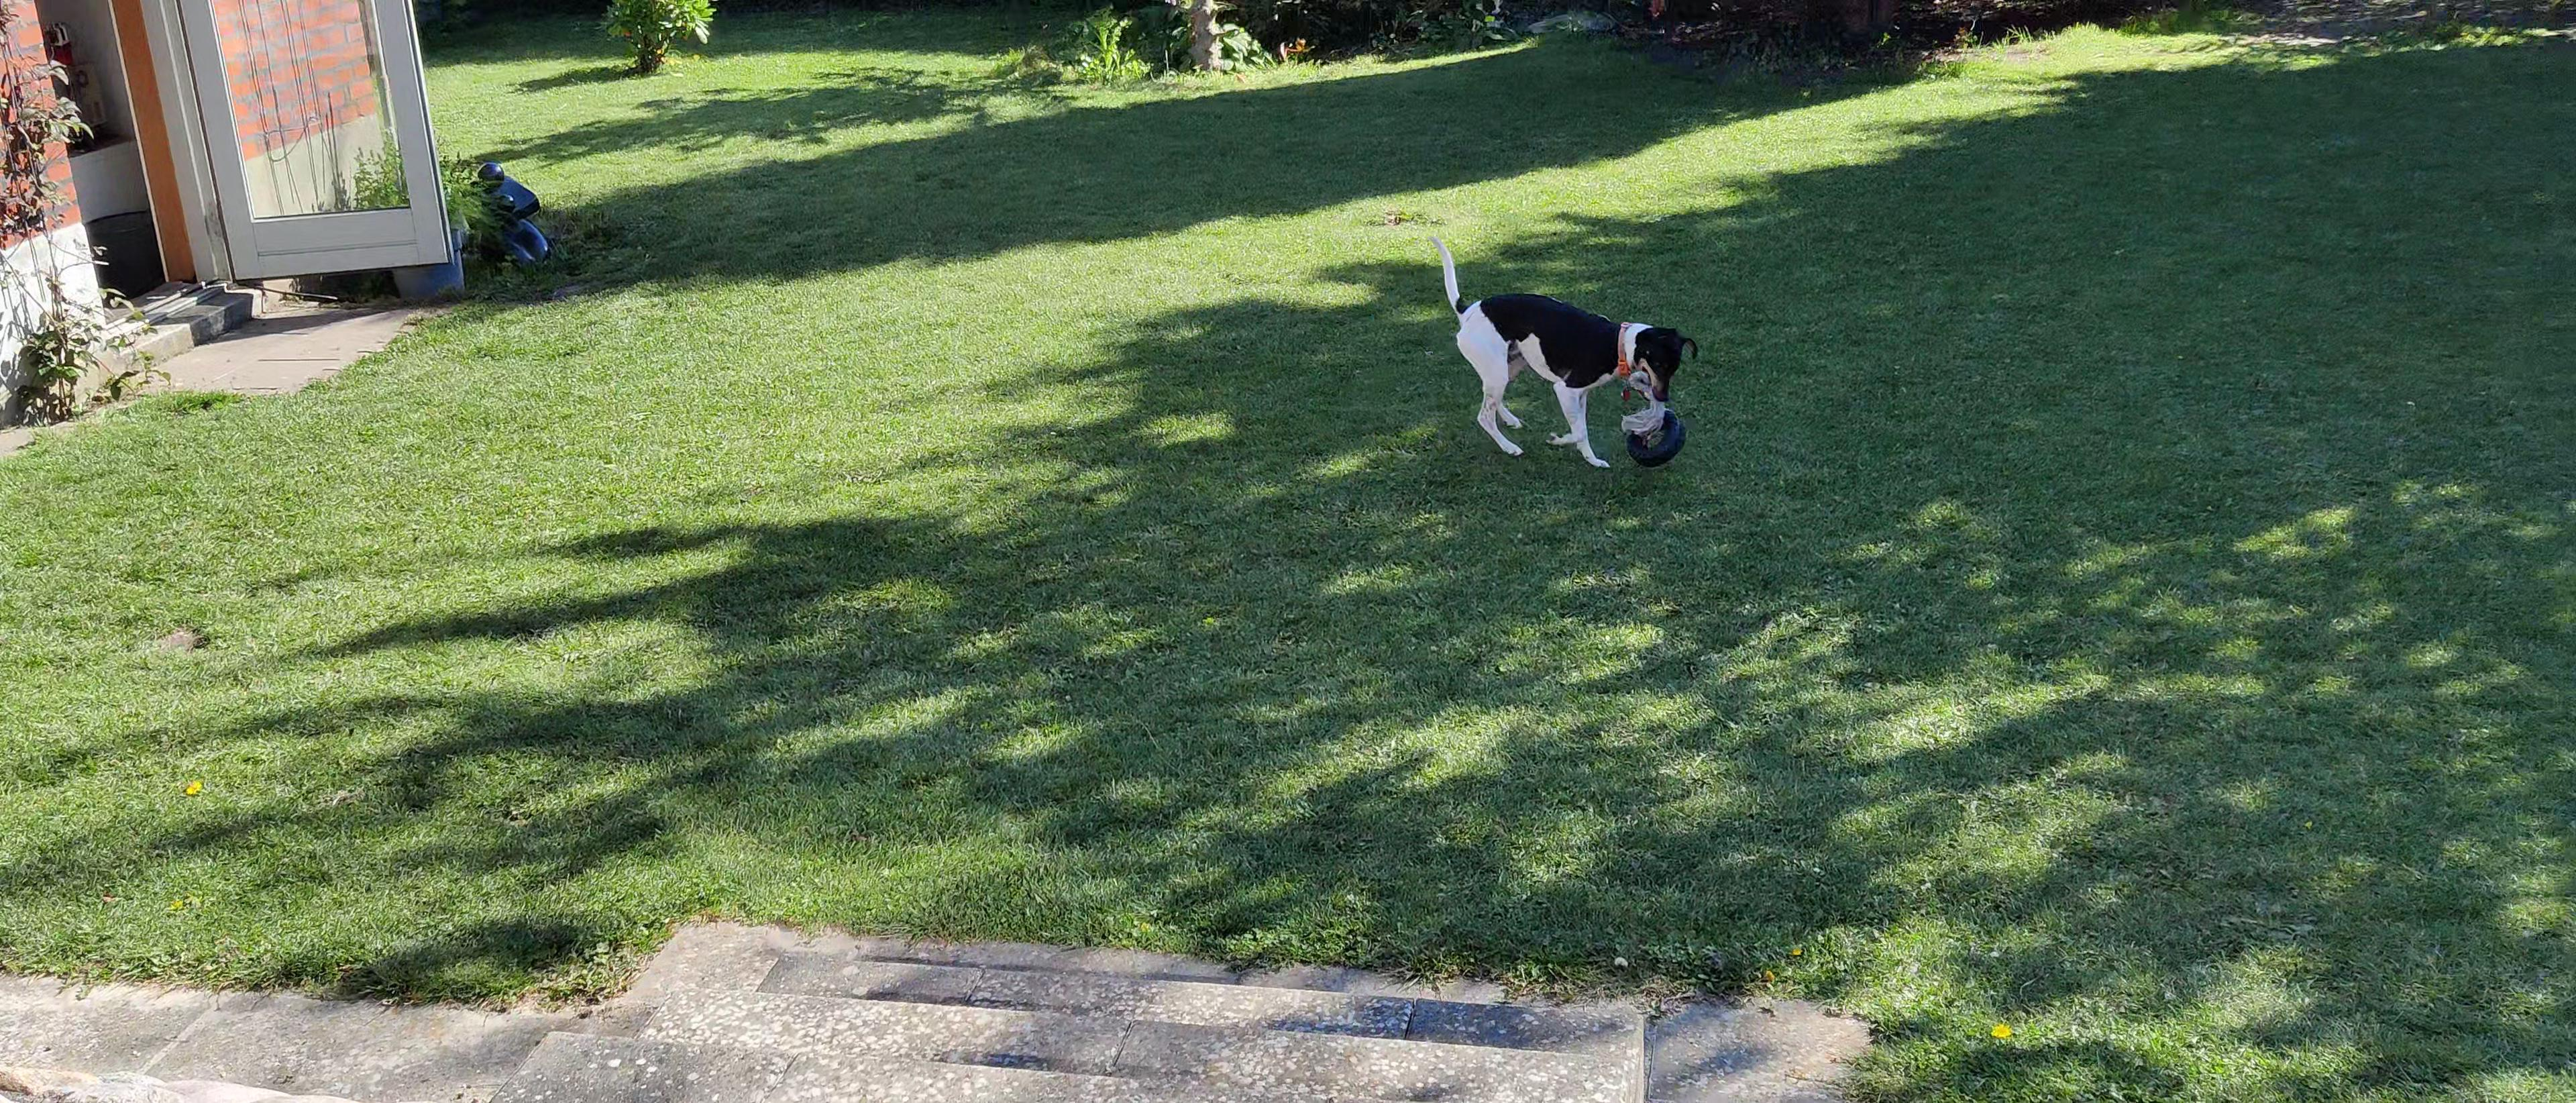Dog: (1419, 224, 1697, 472)
